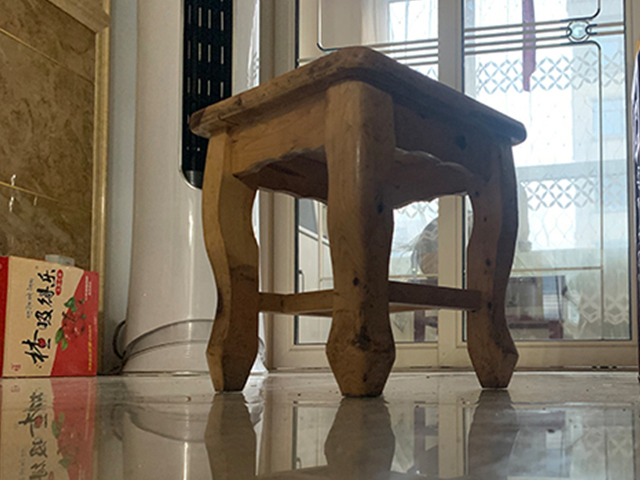stool: (189, 45, 529, 399)
